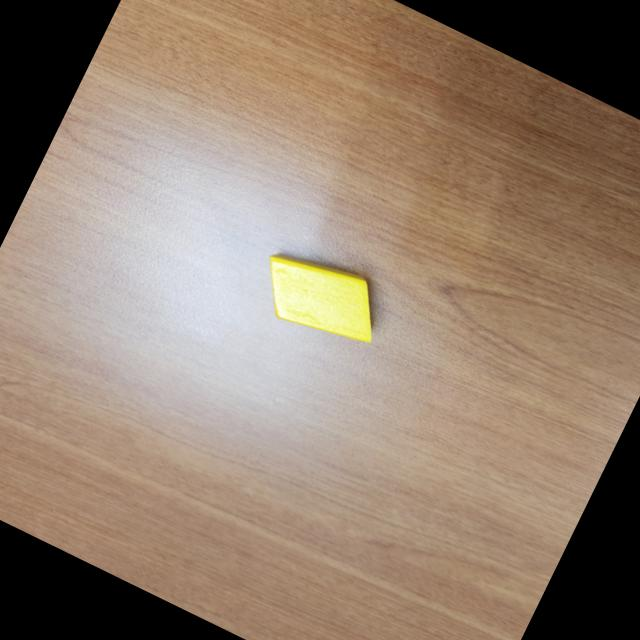yellow: (246, 234, 398, 360)
